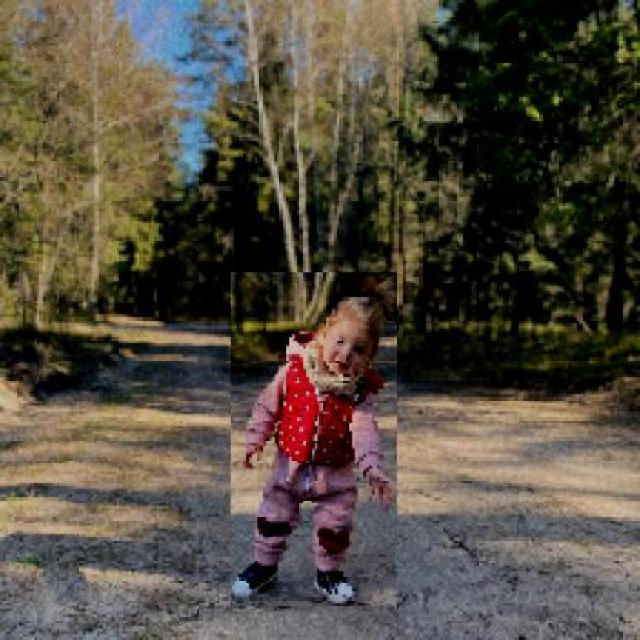child: (229, 272, 397, 608)
